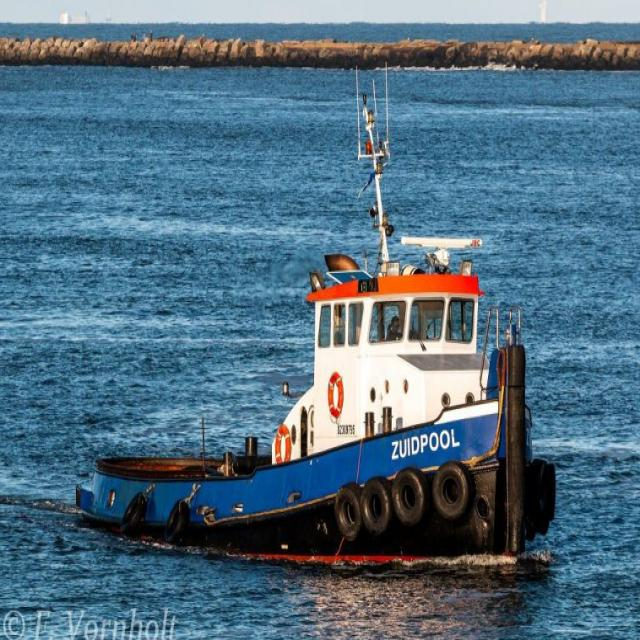tugboat: (74, 226, 561, 579)
